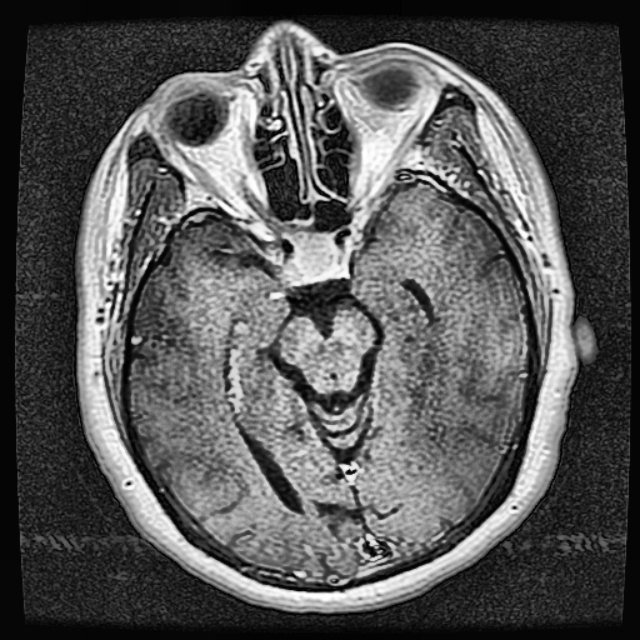Pituitary: (283, 230, 347, 284)
